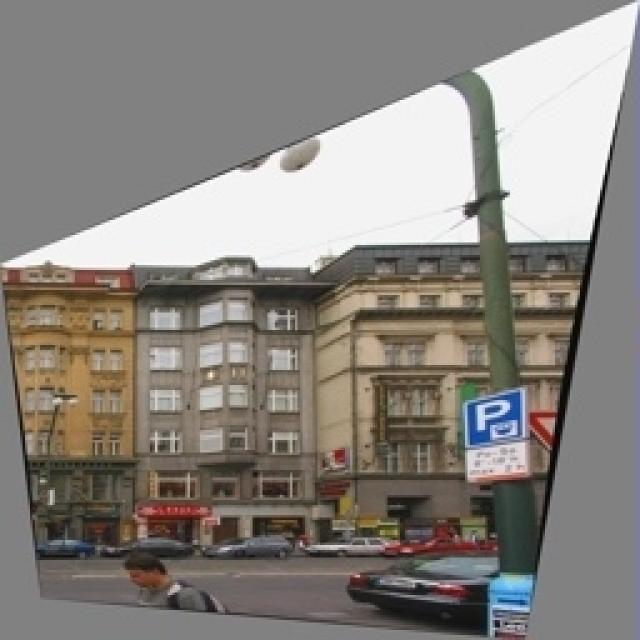building: (335, 250, 587, 562), (132, 260, 330, 568), (0, 260, 132, 567)
